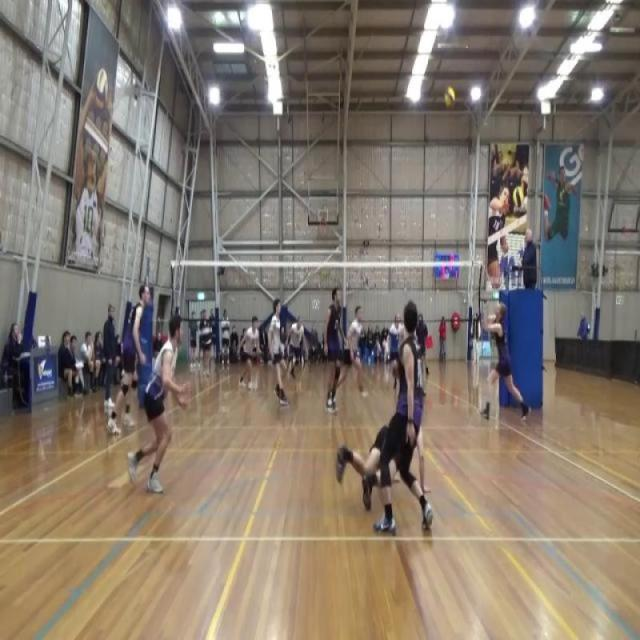volleyball: (95, 66, 107, 108), (514, 186, 526, 209), (444, 86, 456, 108)
